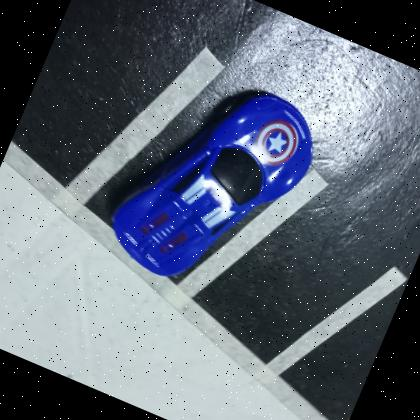Car: (111, 89, 314, 276)
